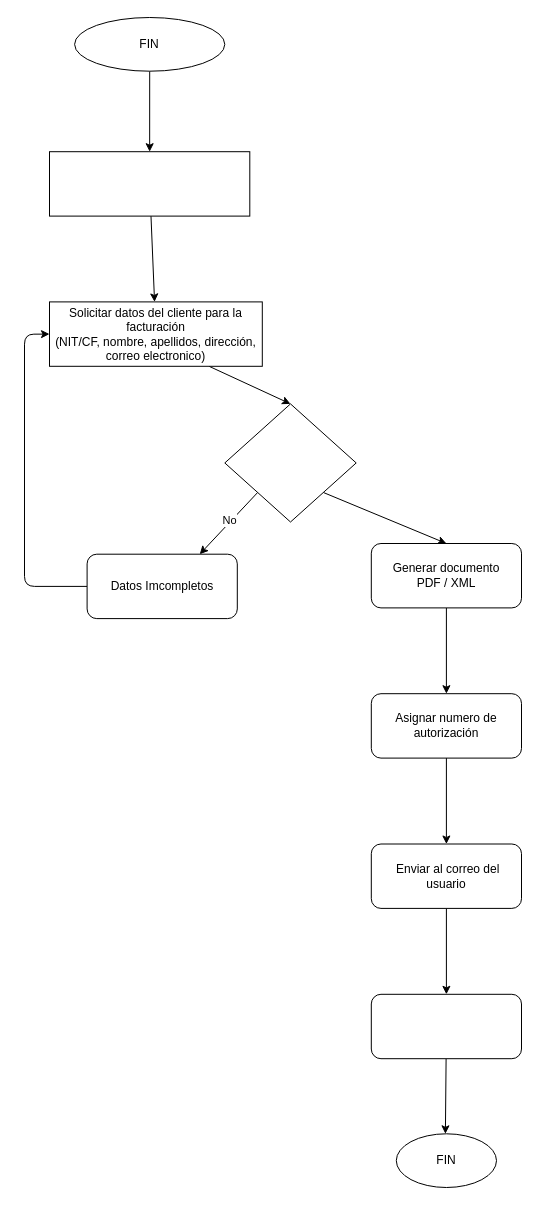
Image size: 539x1205. Some labels were removed from this diagram. The centre of each missing label's shape, as x and y in pixels:
"Mostrar factura en otra ventana del navegador" belongs at [446,1026].
"Recibbir confirmacion de la orden de compra aprobada" belongs at [149,183].
"¿Datos de facturación validos?" belongs at [290,462].
